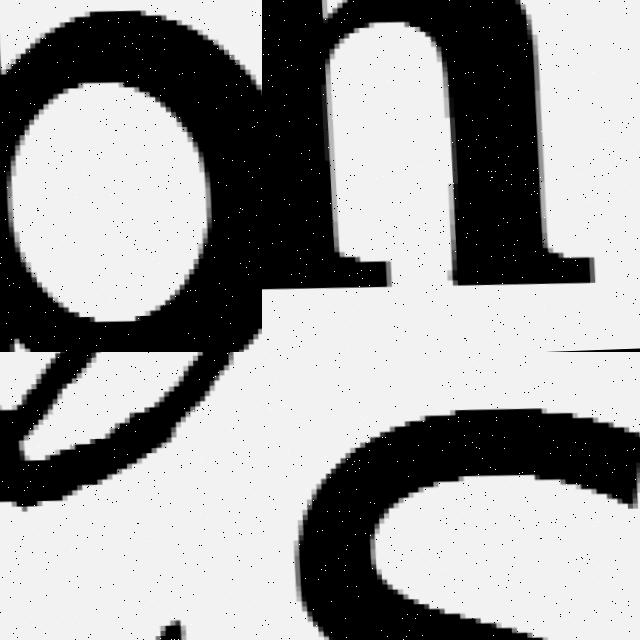H: (262, 0, 582, 293)
P: (0, 14, 262, 352)
S: (262, 392, 640, 640)
